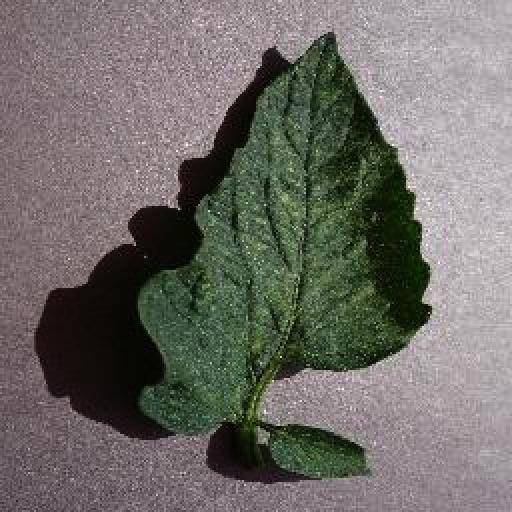disease_tomato: (136, 30, 432, 436)
